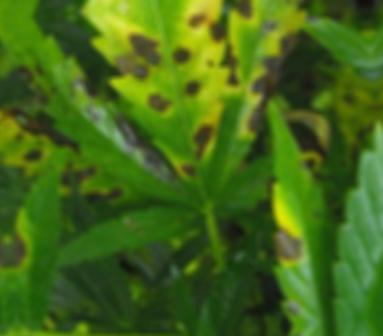Tomato leaf bacterial spot: (58, 0, 245, 200), (191, 0, 363, 182), (236, 94, 365, 329), (0, 143, 100, 332)
